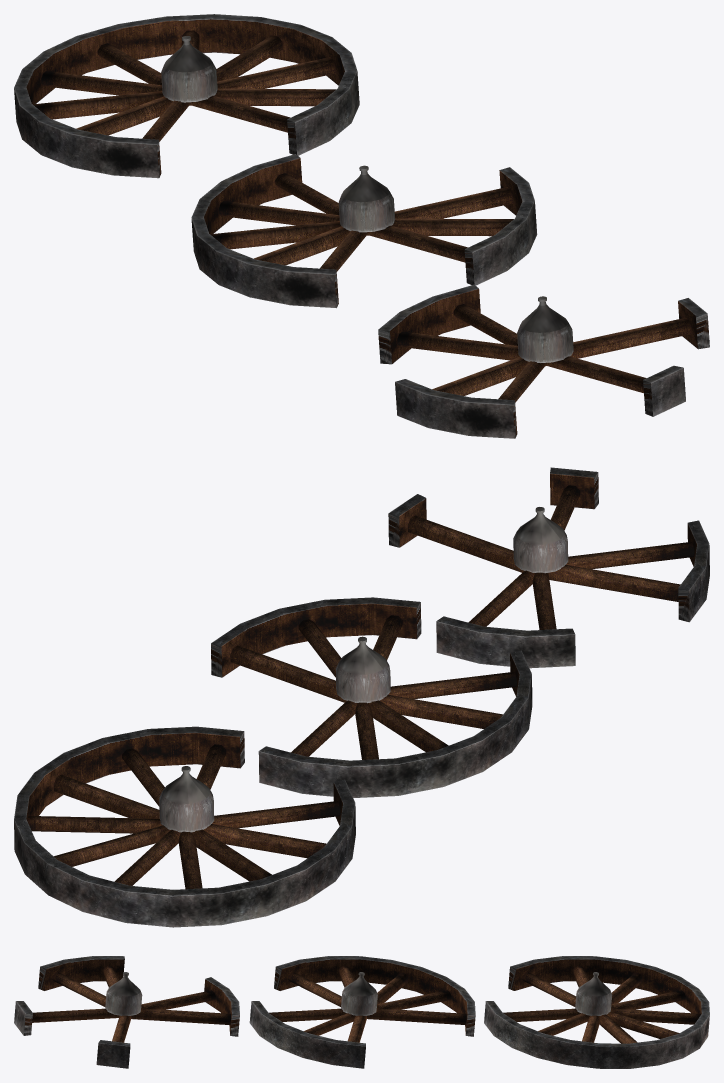
The model's file is Rueda1.fbx.
3 views of the same model, one above another, from view 1: azimuth 30°, elevation 25°; view 2: azimuth 150°, elevation 25°; view 3: azimuth 270°, elevation 25° (orthographic). The views are drawn at different scales.
Visible parts, largest first — view 1: Wheel, Wheel001, Wheel002; view 2: Wheel, Wheel001, Wheel002; view 3: Wheel, Wheel001, Wheel002.
Boxes of the visible parts, left/top/right/bottom form: Wheel: left=14, top=14, right=359, bottom=178; Wheel001: left=191, top=154, right=537, bottom=308; Wheel002: left=378, top=284, right=709, bottom=438; Wheel: left=14, top=726, right=355, bottom=927; Wheel001: left=211, top=597, right=532, bottom=797; Wheel002: left=388, top=467, right=709, bottom=668; Wheel: left=484, top=956, right=709, bottom=1068; Wheel001: left=249, top=956, right=475, bottom=1068; Wheel002: left=14, top=956, right=239, bottom=1068.
Size of the model in its own units: 182 by 51.76 by 557.
